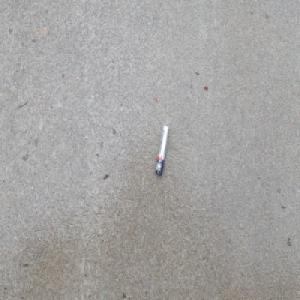Battery: (155, 122, 169, 177)
